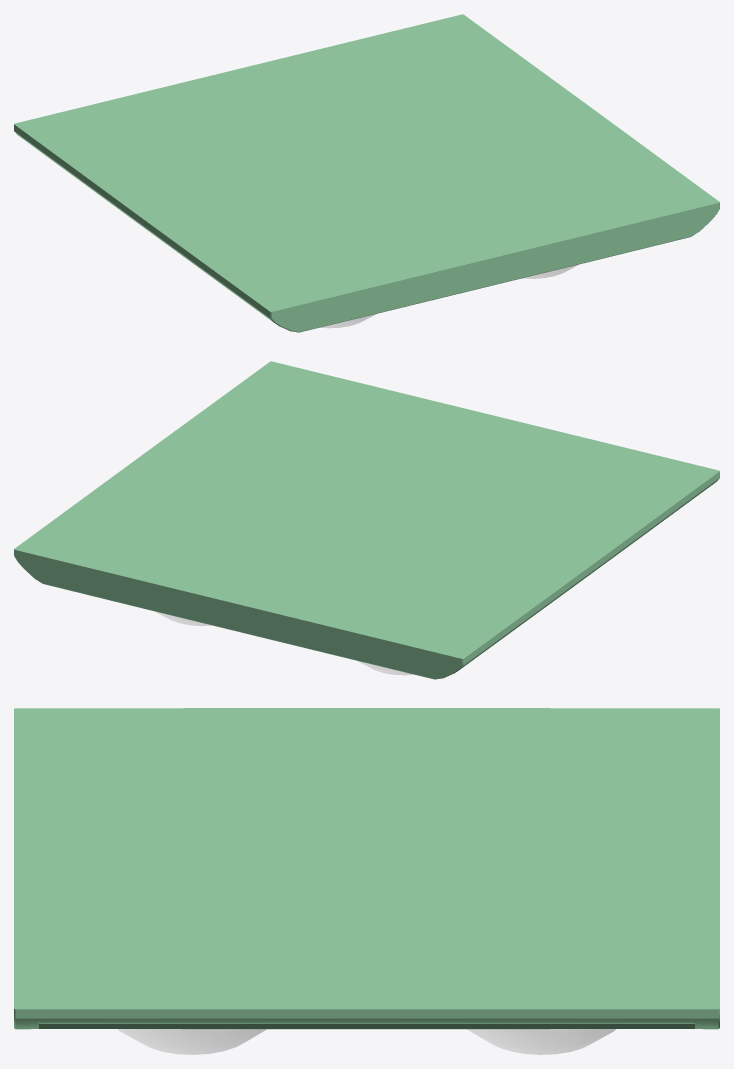
Rendered from CherryBlossoms001.FBX.
The picture shows the model from 3 angles, top to bottom: view 1: azimuth 30°, elevation 25°; view 2: azimuth 150°, elevation 25°; view 3: azimuth 270°, elevation 25°; orthographic projection. The views are drawn at different scales.
Visible parts, largest first — view 1: CherryBlossoms001; view 2: CherryBlossoms001; view 3: CherryBlossoms001.
Boxes of the visible parts, bbox=[...] form: CherryBlossoms001: bbox=[14, 14, 719, 332]; CherryBlossoms001: bbox=[14, 361, 719, 679]; CherryBlossoms001: bbox=[14, 708, 719, 1054].
Size of the model in its own units: 50.51 by 50 by 9.21.
